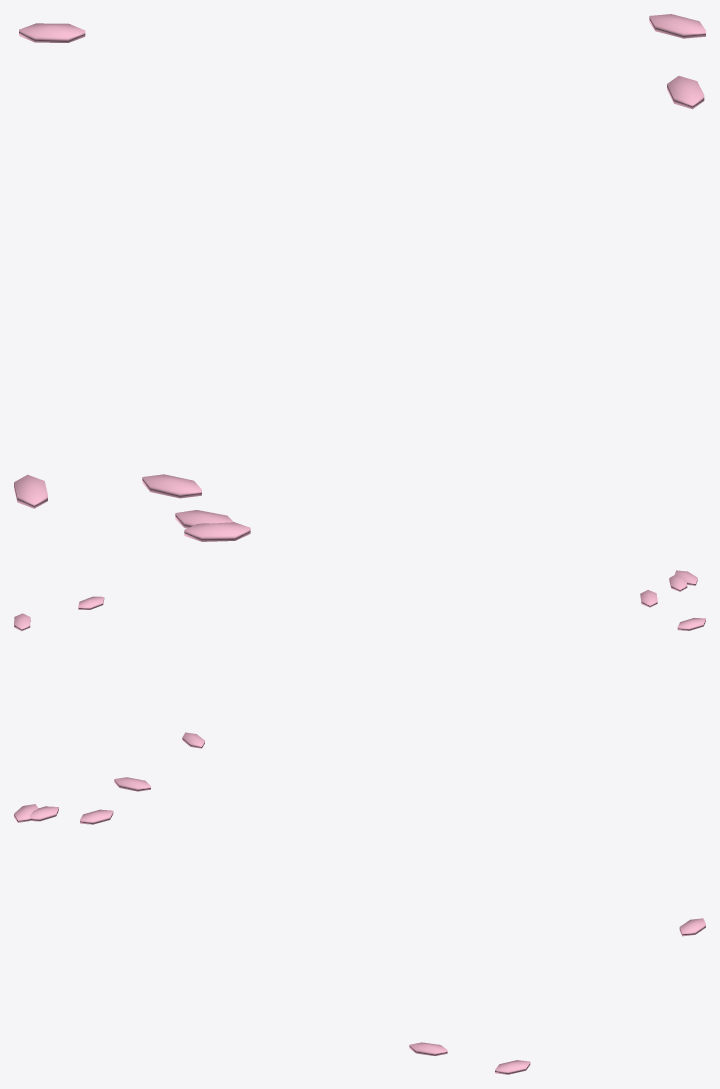
File: layer_spring_sparse_low.glb
The picture shows the model from 3 angles, top to bottom: view 1: azimuth 30°, elevation 25°; view 2: azimuth 150°, elevation 25°; view 3: azimuth 270°, elevation 25°; orthographic projection. The views are drawn at different scales.
Bounding box in the file's own units: 2.1 × 0.025 × 2.09.
